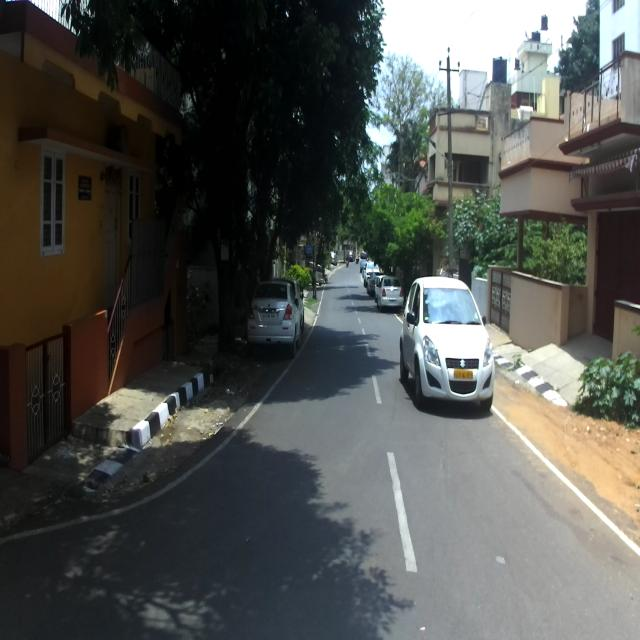car ahead at: (400, 275, 494, 419), (247, 277, 305, 347)
